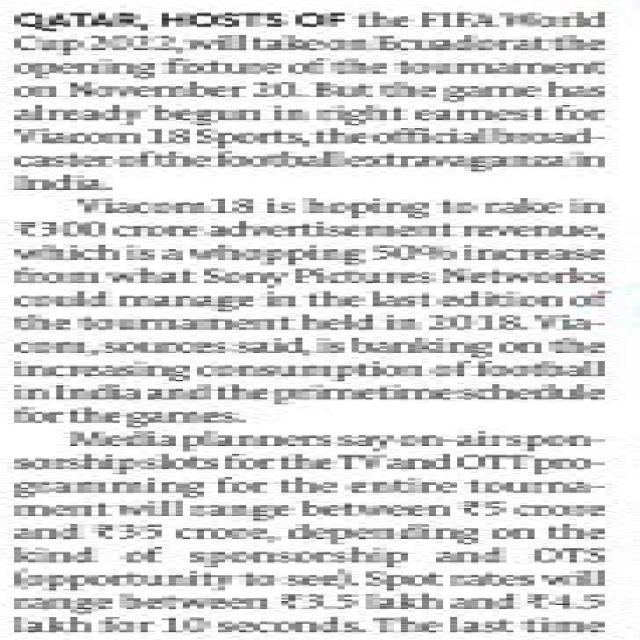paper: (7, 1, 640, 640)
